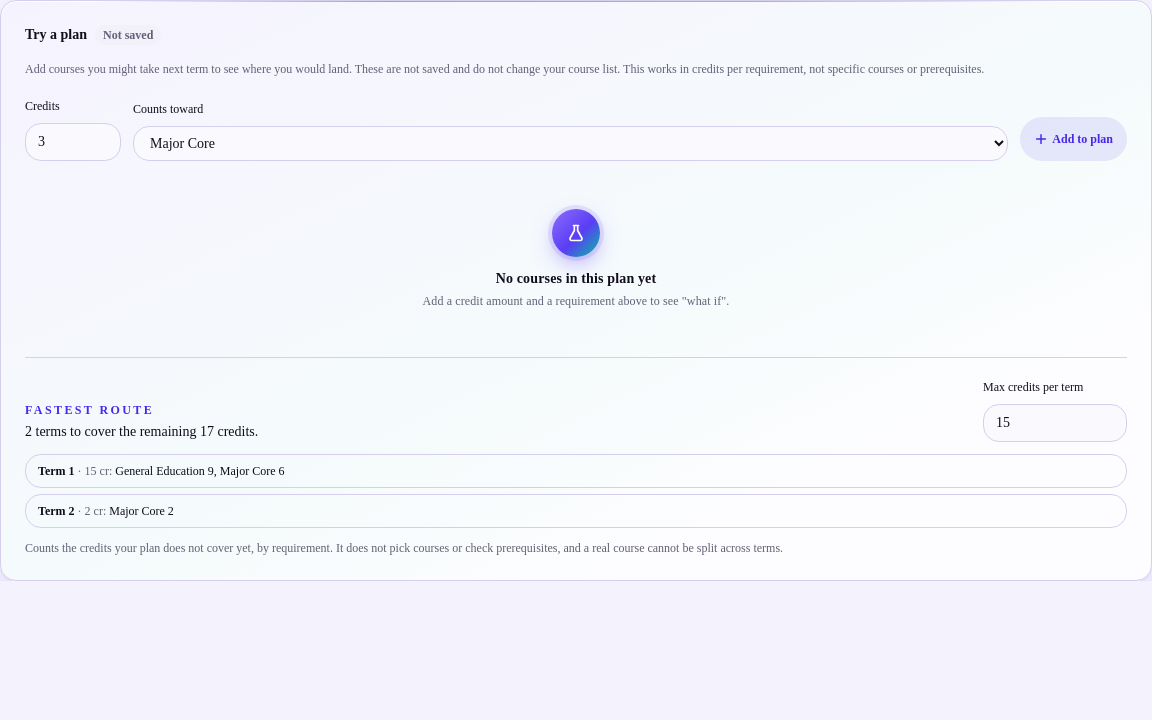
WhatIfCard › recomputes the fastest route when the max credits per term changes
This screenshot has width=1152, height=720.
Replace the text in the number field labelled "Max credits per term" with "6". click: (1055, 423)
box: x1=983 y1=404 x2=1127 y2=442
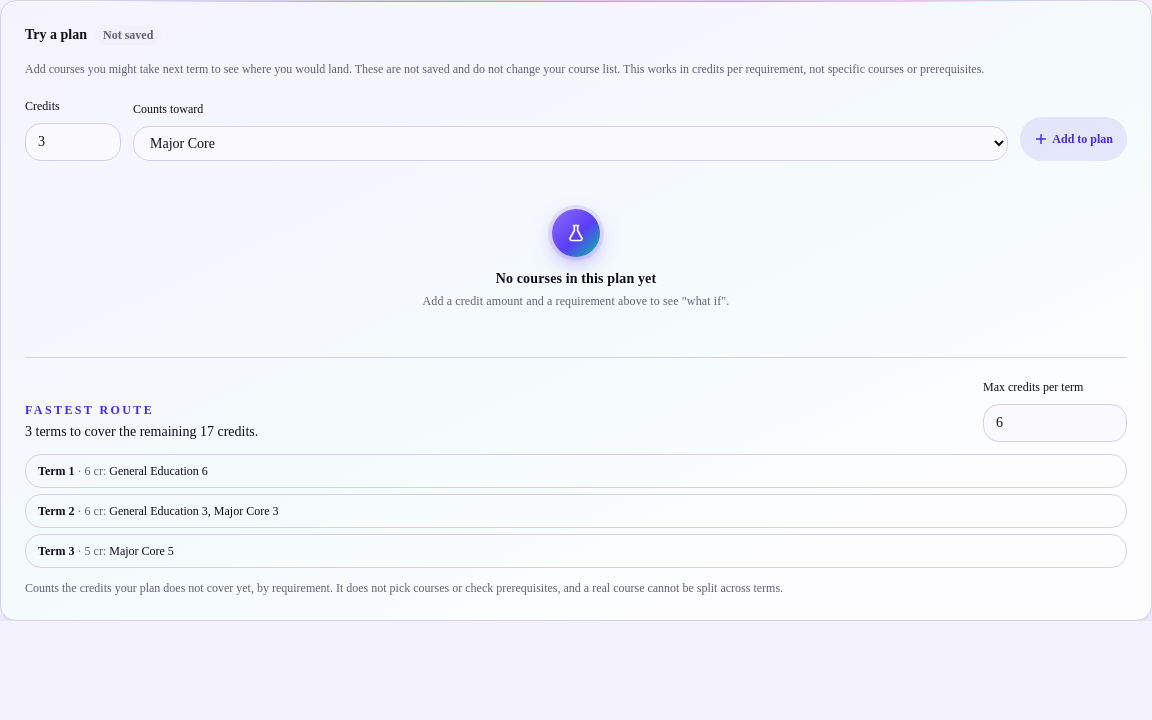
Expected: the list item "Term 1 · 6 cr: General Education 6" is shown, x1=25 y1=454 x2=1127 y2=488
Now the text "3 terms to cover the remaining 17 credits." is shown, box x1=25 y1=422 x2=258 y2=442
Now the number of list items is 3, box x1=25 y1=454 x2=1127 y2=488; x1=25 y1=494 x2=1127 y2=528; x1=25 y1=534 x2=1127 y2=568
